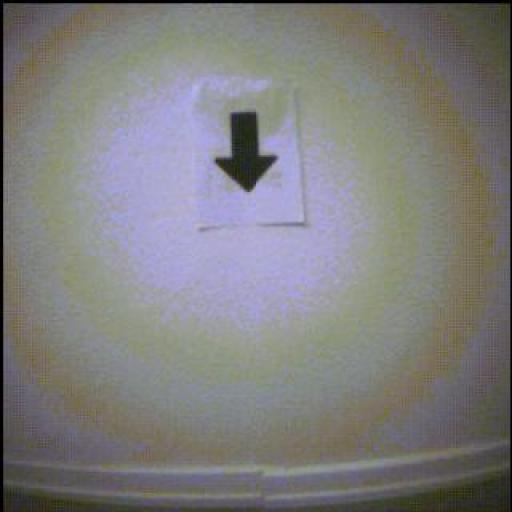arrow: (215, 113, 278, 193)
